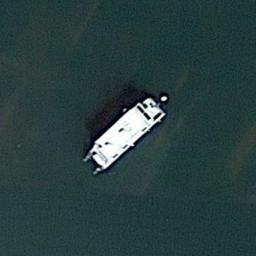boat: (80, 96, 169, 176)
